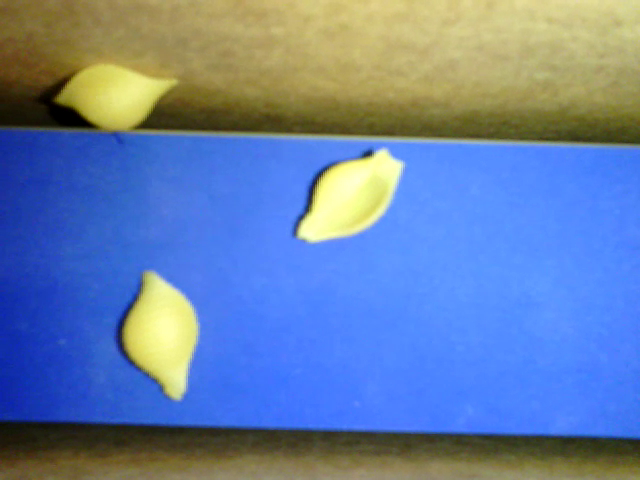shell: (294, 148, 403, 244), (121, 271, 200, 401), (52, 63, 178, 131)
